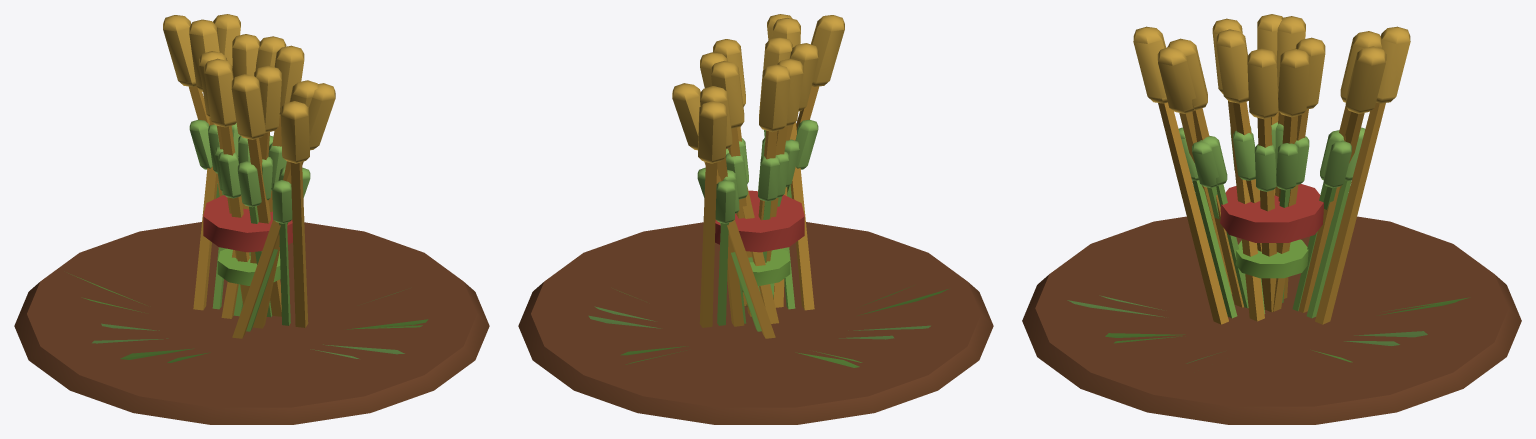
Rendered from rice.glb.
3 renders of one model, left to right at view 1: azimuth 30°, elevation 25°; view 2: azimuth 150°, elevation 25°; view 3: azimuth 270°, elevation 25°, orthographic. The views are drawn at different scales.
Visible parts, largest first — view 1: crop-rice-giant, crop-rice-giant-2; view 2: crop-rice-giant, crop-rice-giant-2; view 3: crop-rice-giant, crop-rice-giant-2.
Boxes of the visible parts, bbox=[...] form: crop-rice-giant: bbox=[14, 14, 489, 424]; crop-rice-giant-2: bbox=[81, 119, 428, 362]; crop-rice-giant: bbox=[518, 14, 993, 424]; crop-rice-giant-2: bbox=[594, 119, 913, 364]; crop-rice-giant: bbox=[1022, 14, 1521, 424]; crop-rice-giant-2: bbox=[1099, 122, 1470, 363].
Size of the model in its own units: 5.61 by 3.76 by 5.7.
